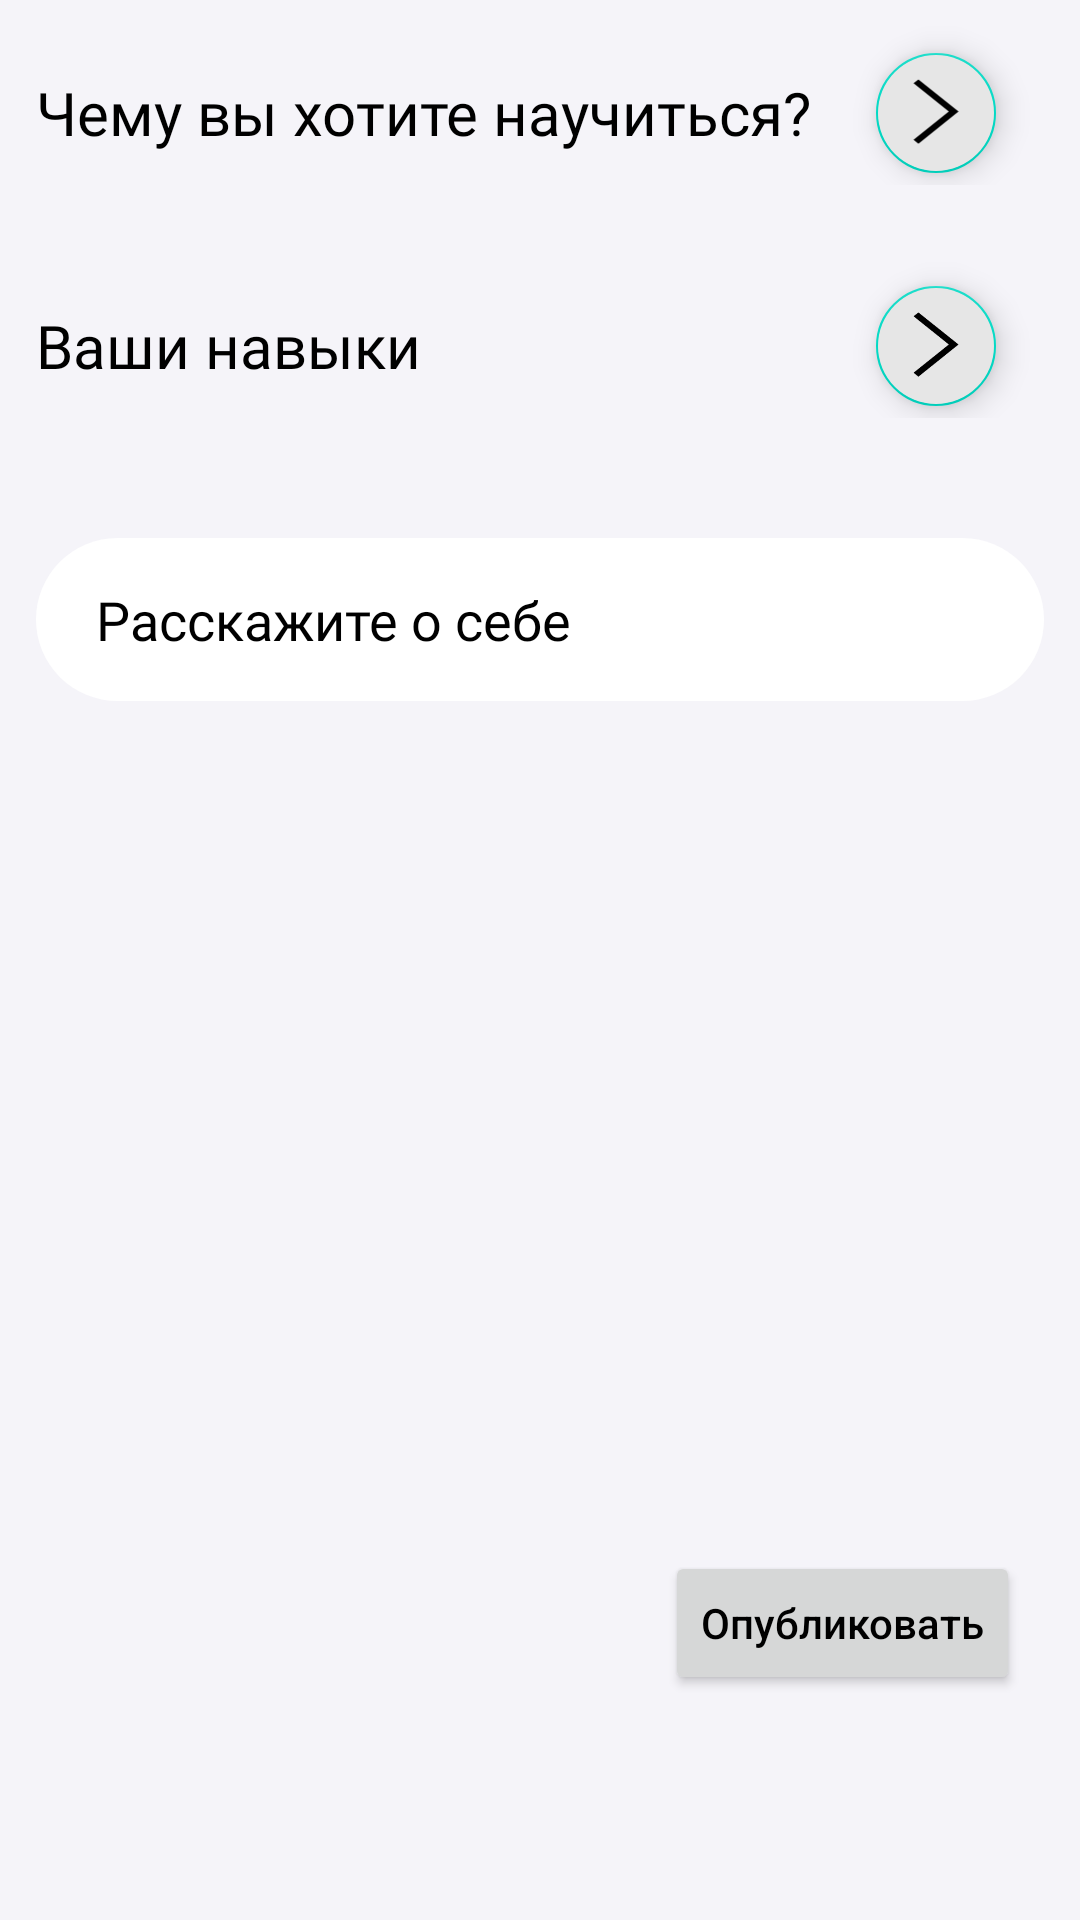

Icons on this 1080px x 1920px Android screen, each with its box as (x1, y1, x2, y2):
arrow filter: (870, 45, 1008, 184), (870, 280, 1008, 418)
